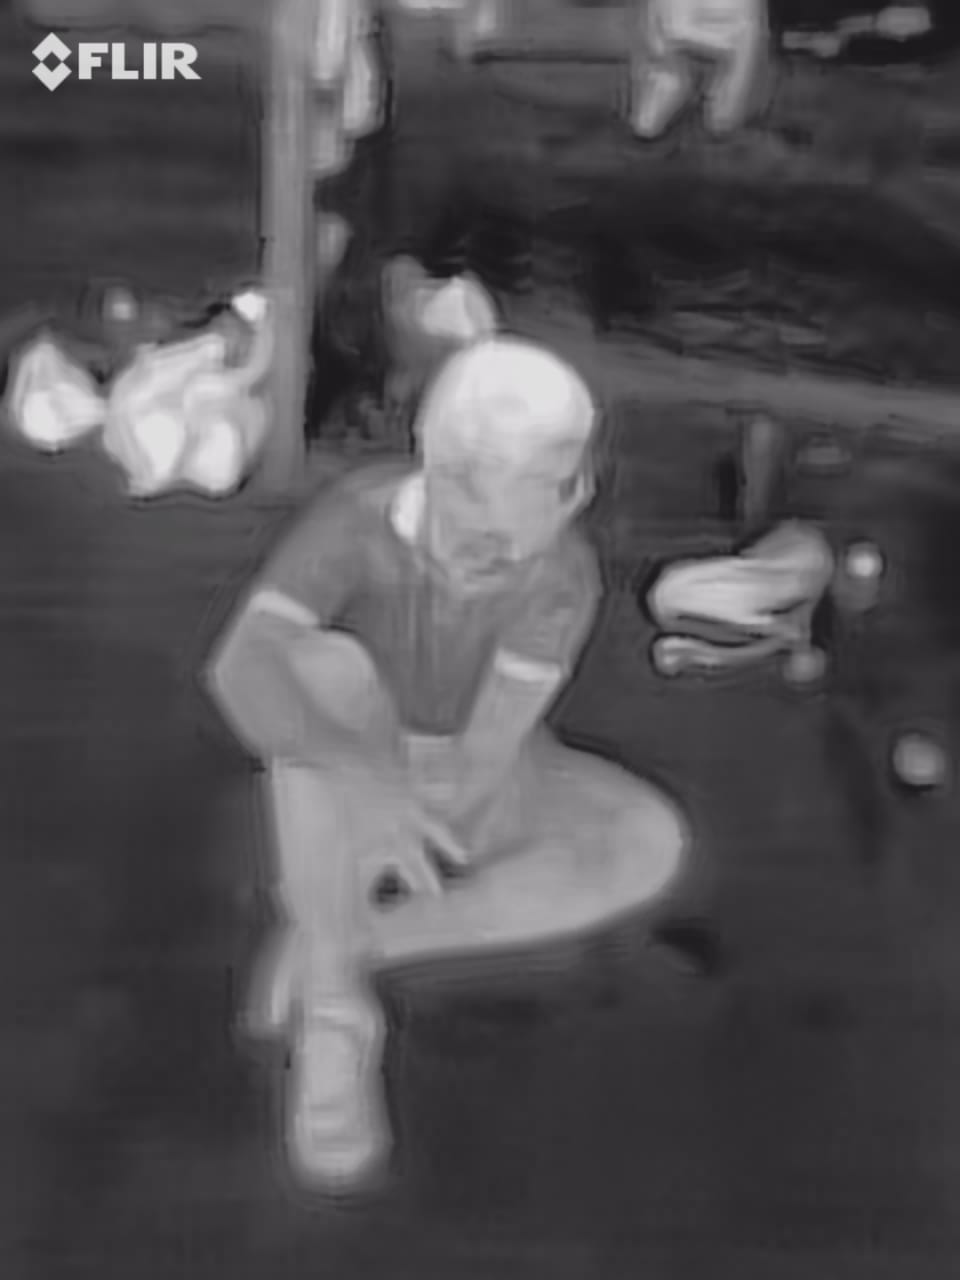head: (401, 333, 613, 569)
